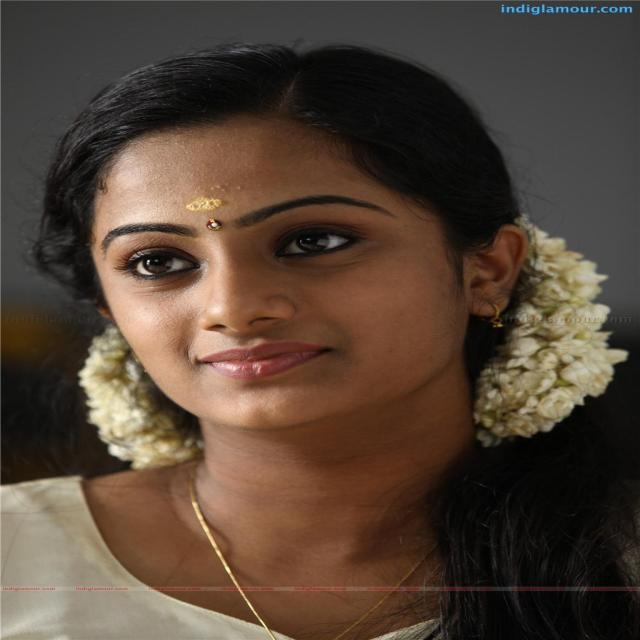Face: (74, 121, 492, 433)
